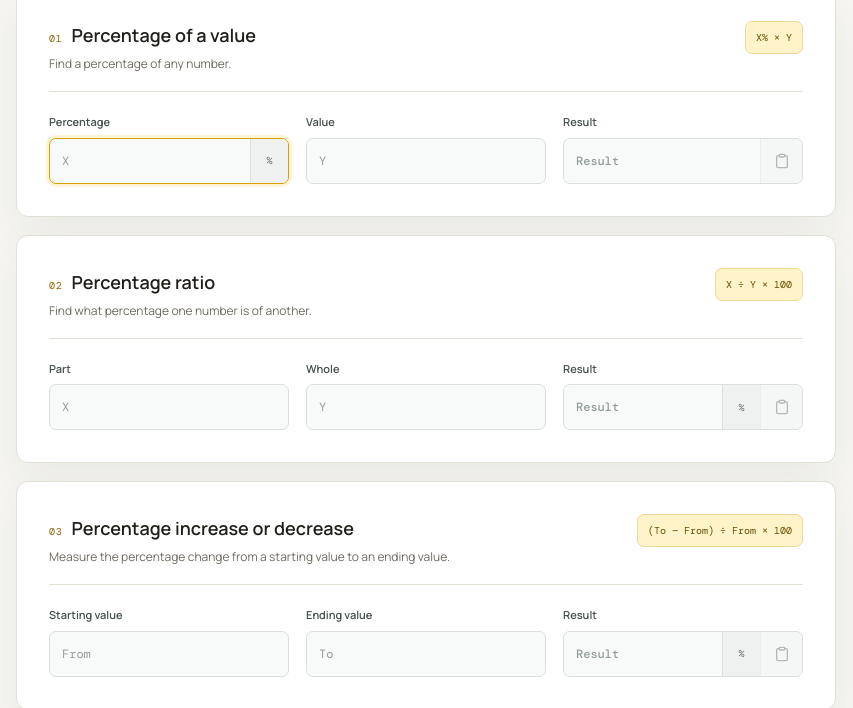
Test case: PercentageCalculatorTool › keeps incomplete results blank and explains invalid or zero denominator input
Step 1. Type "12 percent" into the field labelled "Percentage" → (150, 160), box [50,138,250,182]
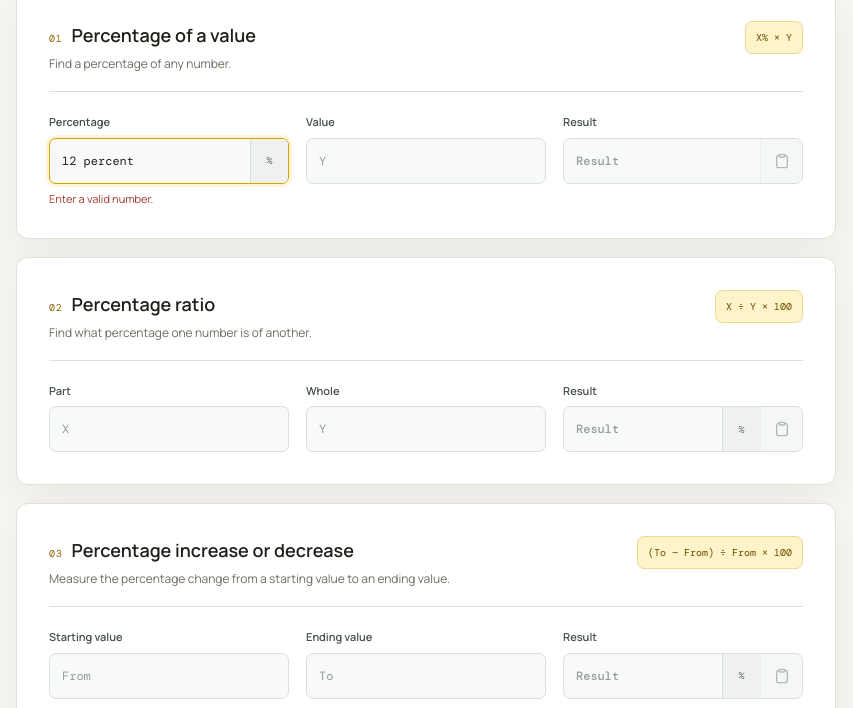
expect the field named "Percentage of a value result" is empty: met, box [564,138,760,182]
expect the text "Enter a valid number." is shown: met, box [49,190,153,206]
Step 2. Type "10" into the field labelled "Part" → (169, 429), box [50,407,288,451]
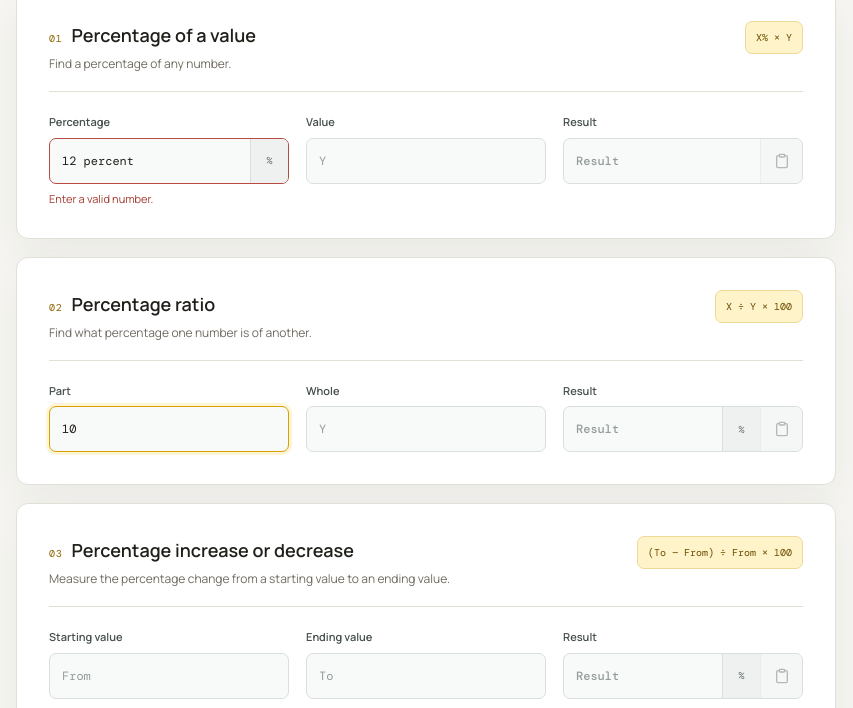
Step 3. Type "0" into the field labelled "Whole" → (426, 429), box [307,407,545,451]
(page scrolled)
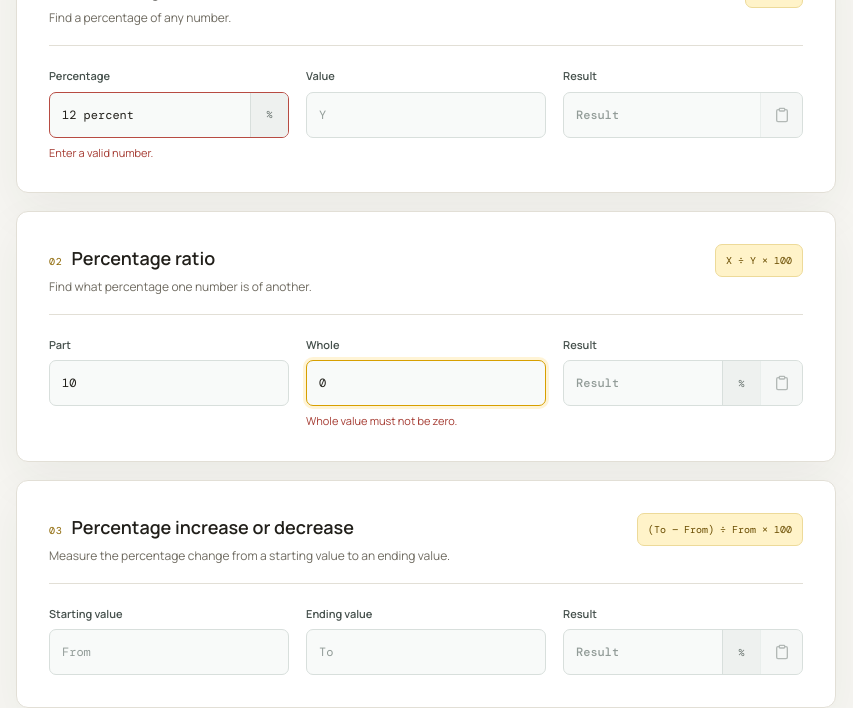
expect the text "Whole value must not be zero." is shown: met, box [306,413,457,428]
Step 4. Type "0" into the field labelled "Starting value" → (169, 652), box [50,630,288,674]
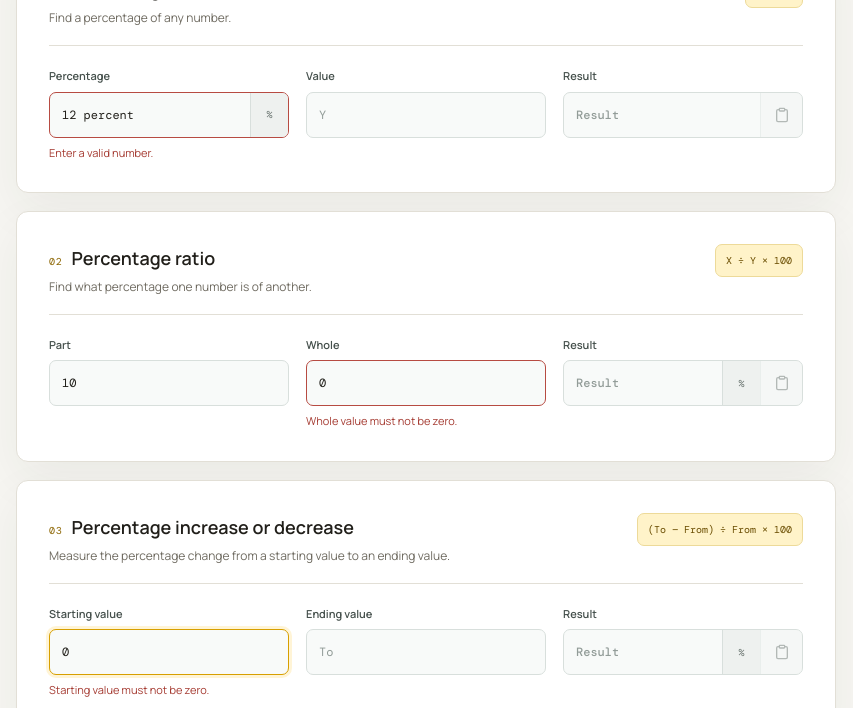
expect the text "Starting value must not be zero." is shown: met, box [49,682,209,697]
